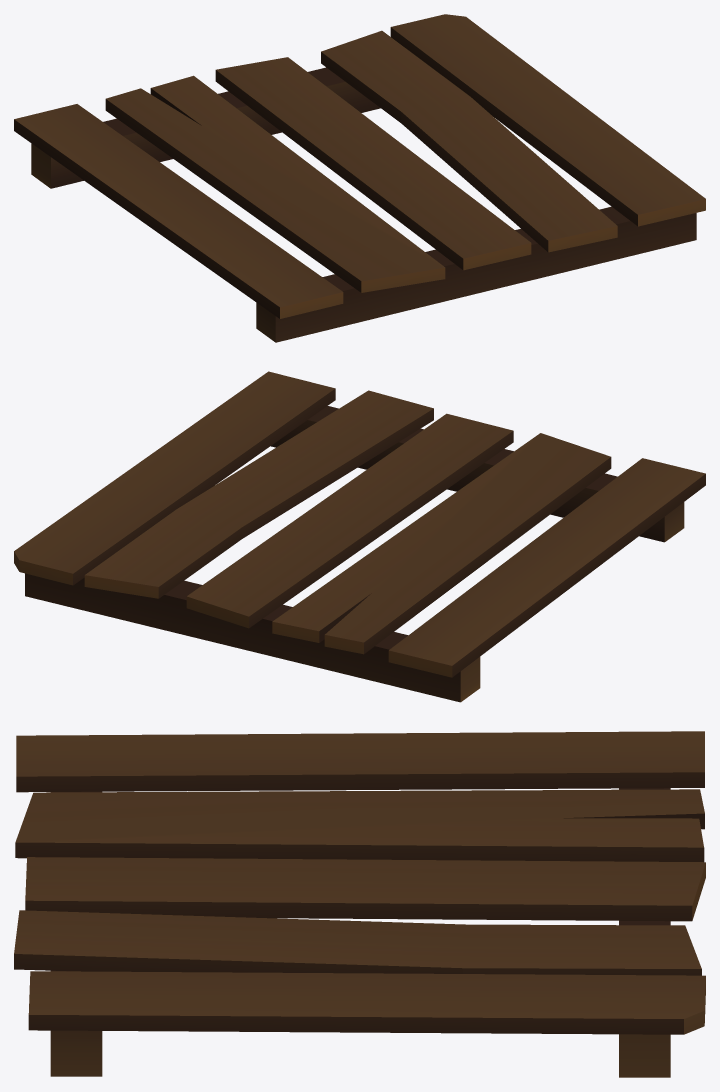
File: Wooden_Pallet_1A.fbx
3 renders of one model, top to bottom at view 1: azimuth 30°, elevation 25°; view 2: azimuth 150°, elevation 25°; view 3: azimuth 270°, elevation 25°, orthographic. The views are drawn at different scales.
Parts seen in each view (by area): view 1: Wooden_Pallet_1A; view 2: Wooden_Pallet_1A; view 3: Wooden_Pallet_1A.
Boxes of the visible parts, bbox=[...] form: Wooden_Pallet_1A: bbox=[14, 14, 705, 342]; Wooden_Pallet_1A: bbox=[14, 371, 705, 702]; Wooden_Pallet_1A: bbox=[14, 731, 705, 1077].
Size of the model in its own units: 1.98 by 0.2 by 2.01.
